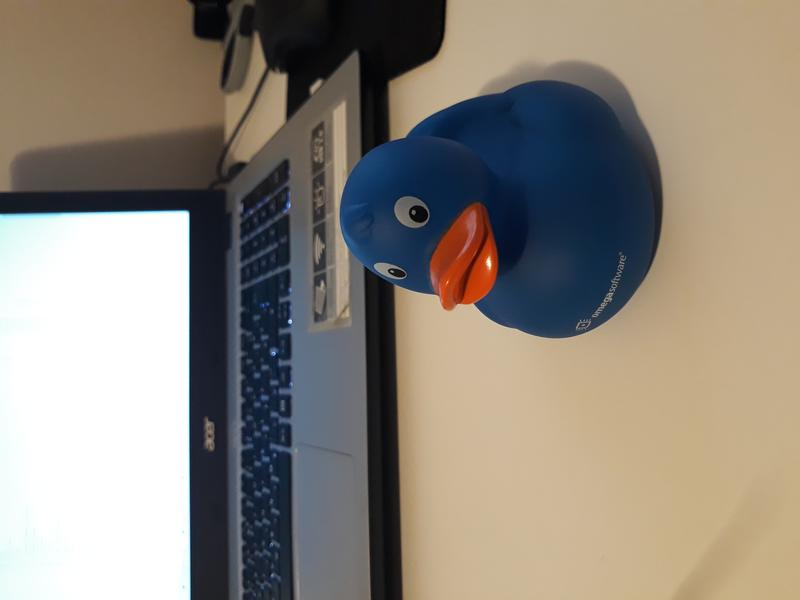plava_patkica: (332, 63, 671, 348)
